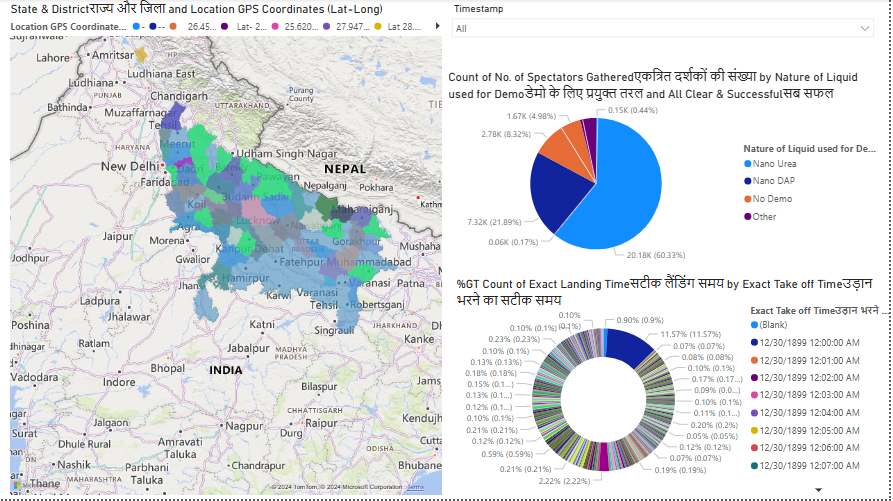

This screenshot's page, from the dashboard's own definition file:
{"tool":"powerbi","page":{"name":"Page 1","canvas":[1280,720],"ordinal":0},"visuals":[{"type":"filledMap","fields":{"Category":["Drone Information Matrix (Responses) - Form responses 1.State & Districtराज्य और जिला"],"Series":["Drone Information Matrix (Responses) - Form responses 1.Location GPS Coordinates (Lat-Long)"]},"box":[10.1,0,630.8,719.7],"z":0},{"type":"slicer","fields":{"Values":["Drone Information Matrix (Responses) - Form responses 1.Timestamp"]},"box":[640.8,0,627.8,97.9],"z":1},{"type":"donutChart","fields":{"Series":["Drone Information Matrix (Responses) - Form responses 1.Exact Take off Timeउड़ान भरने का सटीक समय"],"Y":["CountNonNull(Drone Information Matrix (Responses) - Form responses 1.Exact Landing Timeसटीक लैंडिंग समय)"]},"box":[651.8,396.4,628.2,324.2],"z":2},{"type":"pieChart","fields":{"Category":["Drone Information Matrix (Responses) - Form responses 1.Nature of Liquid used for Demoडेमो के लिए प्रयुक्त तरल"],"Y":["CountNonNull(Drone Information Matrix (Responses) - Form responses 1.No. of Spectators Gatheredएकत्रित दर्शकों की संख्या"],"Series":["Drone Information Matrix (Responses) - Form responses 1.All Clear & Successfulसब सफल"]},"box":[641,98,628,298],"z":3}]}

Visuals, with their boxes in screenshot pixels (x1, y1, x2, y2), scaled from the page's 1280x720 canvas onto the 893x501 screenshot:
filledMap - Drone Information Matrix (Responses) - Form responses 1.State & Districtराज्य और जिला x Drone Information Matrix (Responses) - Form responses 1.Location GPS Coordinates (Lat-Long): <box>7,0,447,500</box>
slicer - Drone Information Matrix (Responses) - Form responses 1.Timestamp: <box>447,0,885,68</box>
donutChart - Drone Information Matrix (Responses) - Form responses 1.Exact Take off Timeउड़ान भरने का सटीक समय x CountNonNull(Drone Information Matrix (Responses) - Form responses 1.Exact Landing Timeसटीक लैंडिंग समय): <box>455,276,892,500</box>
pieChart - Drone Information Matrix (Responses) - Form responses 1.Nature of Liquid used for Demoडेमो के लिए प्रयुक्त तरल x CountNonNull(Drone Information Matrix (Responses) - Form responses 1.No. of Spectators Gatheredएकत्रित दर्शकों की संख्या: <box>447,68,885,276</box>
